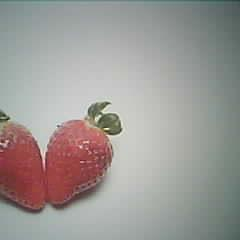straw-ripe: (44, 117, 114, 204), (0, 116, 44, 210)
